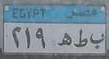1: (23, 26, 32, 49)
2: (10, 25, 22, 49)
9: (35, 27, 46, 49)
Taa: (74, 28, 88, 49)
baa: (89, 31, 105, 50)
haa: (57, 31, 73, 49)
